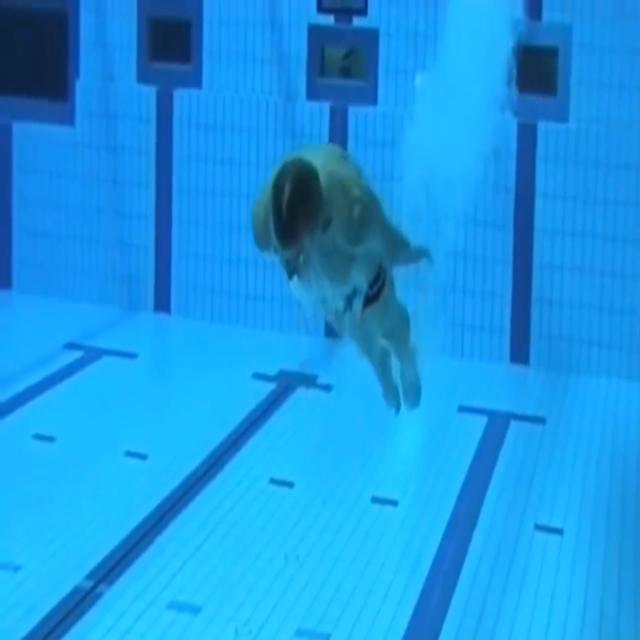Swimming: (250, 146, 431, 418)
